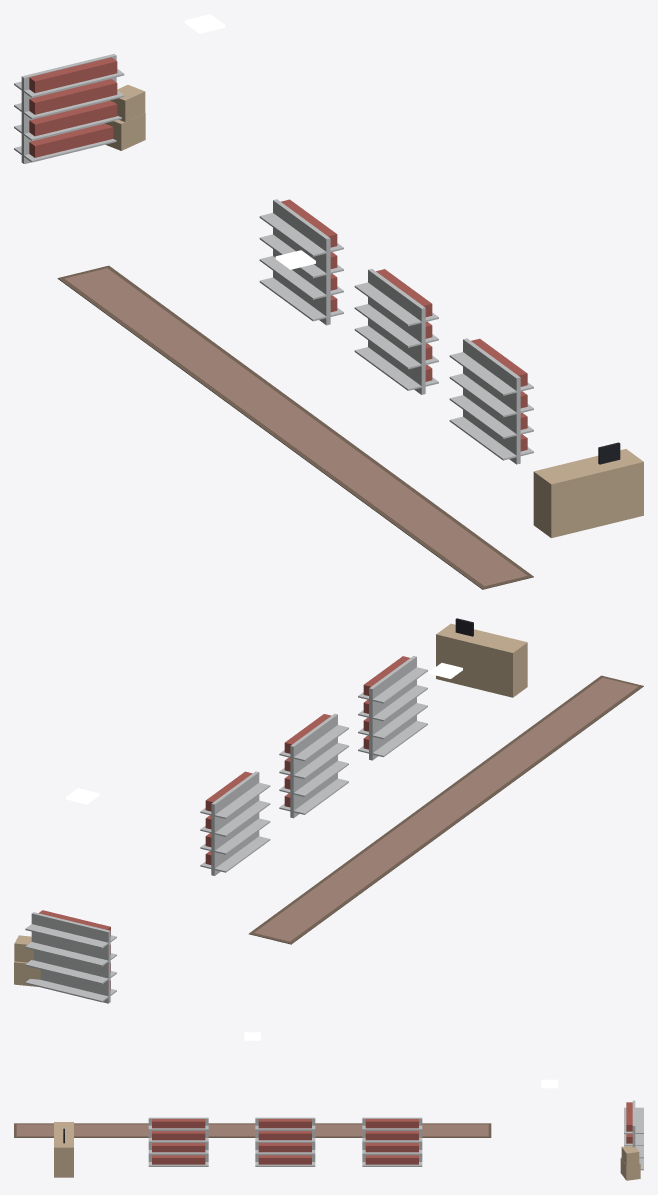
Rendered from fine-s0.glb.
The picture shows the model from 3 angles, top to bottom: view 1: azimuth 30°, elevation 25°; view 2: azimuth 150°, elevation 25°; view 3: azimuth 270°, elevation 25°; orthographic projection. The views are drawn at different scales.
Parts seen in each view (by area): view 1: soft-s0, shelving.000, shop-counter.000, shelf.001, shelf.002, shelf.000, cardboard-box.000; view 2: soft-s0, shelving.000, shop-counter.000, shelf.000, shelf.002, shelf.001, cardboard-box.000; view 3: soft-s0, shelf.000, shelf.001, shelf.002, shop-counter.000, shelving.000, cardboard-box.000.
Part boxes in pixels (x1,y1,x2,y2): soft-s0: (57,265,533,589); shelving.000: (14,54,124,163); shop-counter.000: (533,442,643,538); shelf.001: (354,269,438,394); shelf.002: (449,338,533,464); shelf.000: (259,199,343,325); cardboard-box.000: (105,85,145,150); soft-s0: (249,675,643,944); shelving.000: (25,910,116,1003); shop-counter.000: (436,618,527,697); shelf.000: (200,771,270,875); shelf.002: (358,656,427,760); shelf.001: (279,713,348,818); cardboard-box.000: (14,935,40,986); soft-s0: (14,1123,491,1137); shelf.000: (362,1117,422,1166); shelf.001: (255,1117,315,1166); shelf.002: (148,1117,208,1166); shop-counter.000: (54,1122,73,1177); shelving.000: (624,1100,643,1170); cardboard-box.000: (620,1146,640,1180).
Size of the model in its own units: 4.13 by 3.15 by 18.88.
